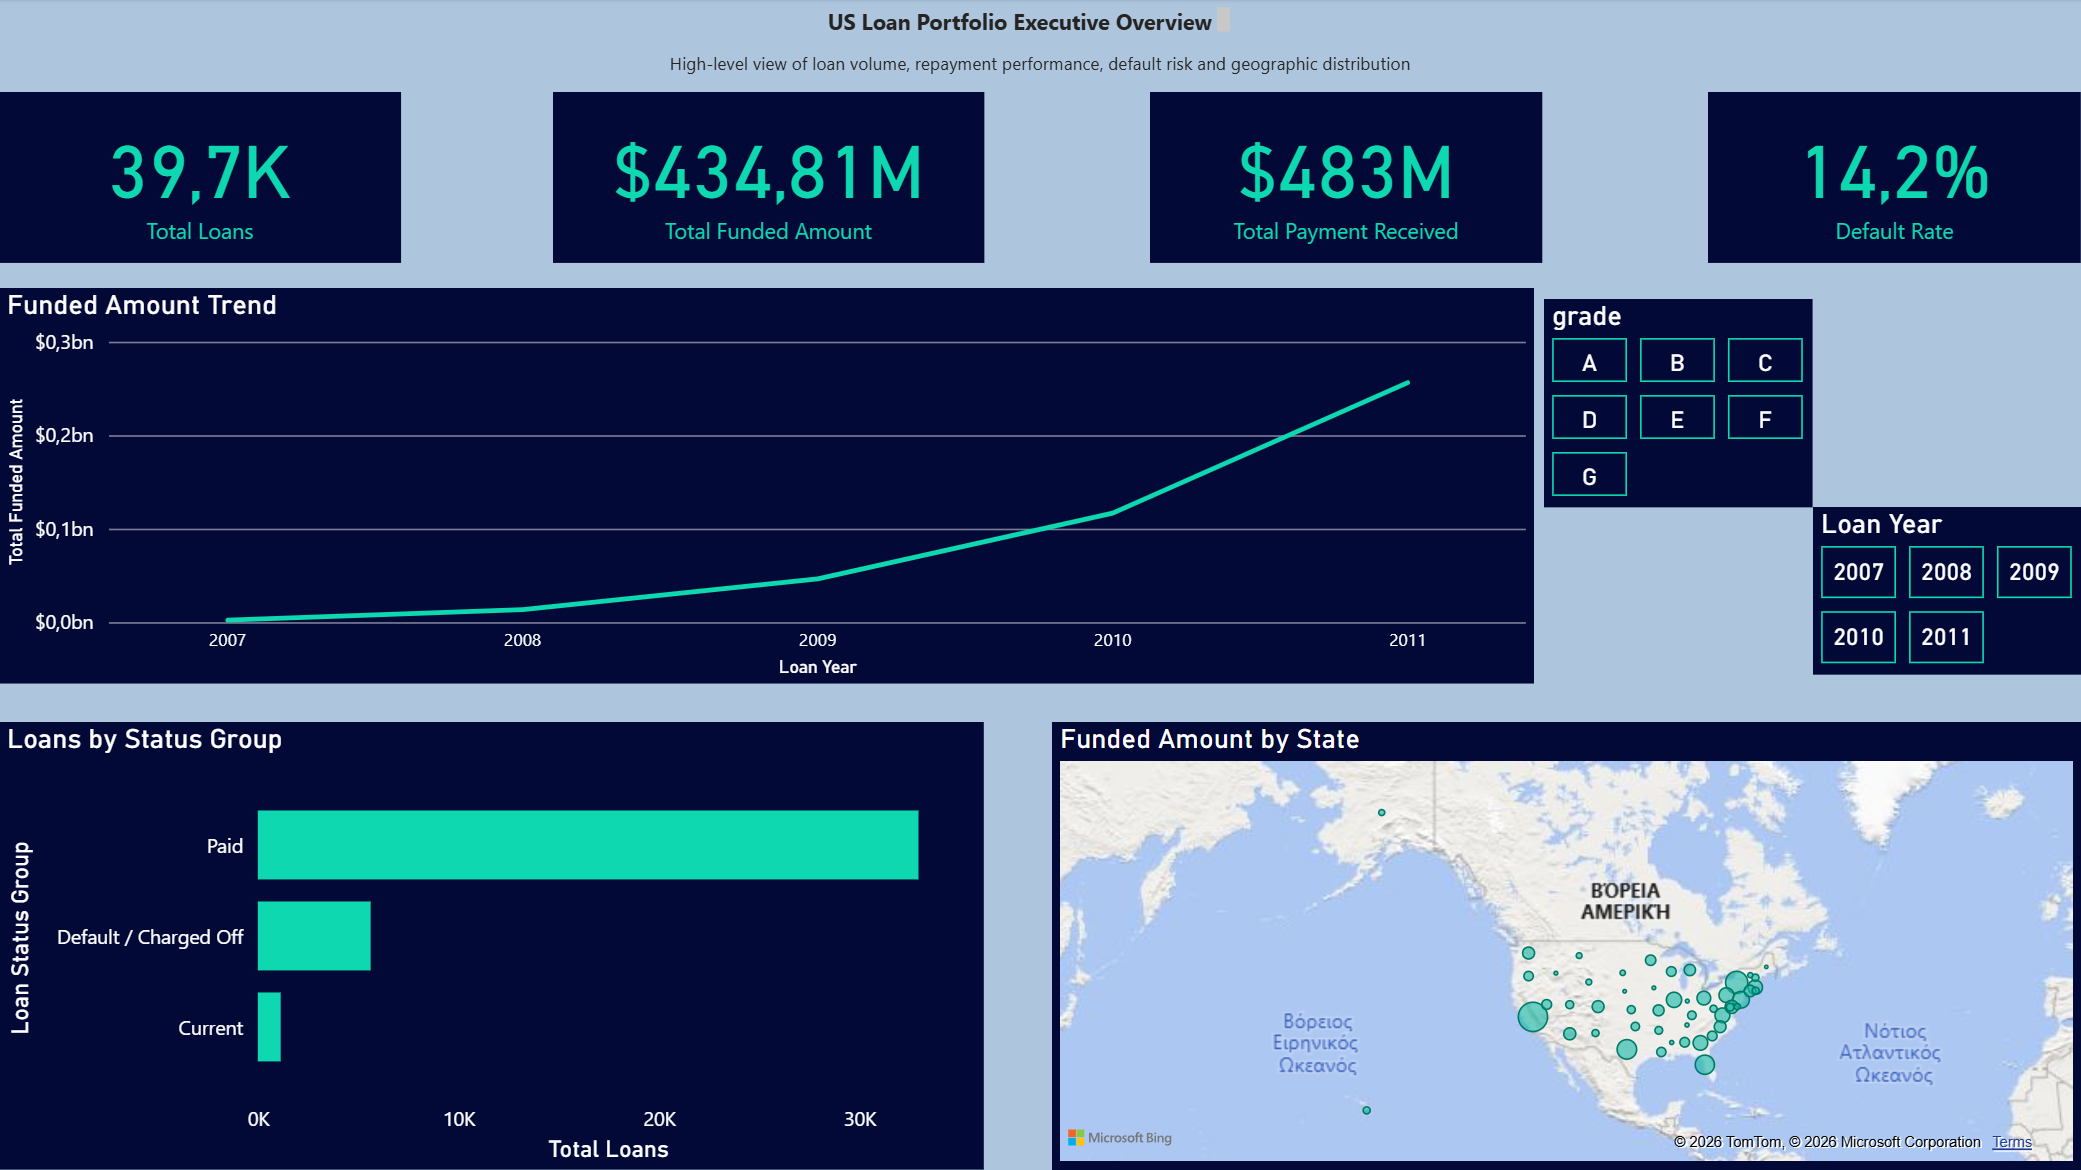

This screenshot's page, from the dashboard's own definition file:
{"tool":"powerbi","page":{"name":"Executive Overview","canvas":[1280,720],"ordinal":0},"visuals":[{"type":"textbox","box":[501.3,0,259.9,24.6],"z":0},{"type":"textbox","box":[398.4,24.7,483.1,27.8],"z":1000},{"type":"card","fields":{"Values":["Loans.Total Loans"]},"box":[0,57.1,247,105.1],"z":2000},{"type":"card","fields":{"Values":["Loans.Total Funded Amount"]},"box":[340.3,57.1,264.8,105.1],"z":3000},{"type":"card","fields":{"Values":["Loans.Total Payment Received"]},"box":[707.1,57.1,240.8,105.1],"z":4000},{"type":"card","fields":{"Values":["Loans.Default Rate"]},"box":[1049.9,57.1,229.1,105.1],"z":5000},{"type":"lineChart","title":"Funded Amount Trend","fields":{"Category":["Loans.Loan Year"],"Y":["Loans.Total Funded Amount"]},"box":[0,177.5,943,243.3],"z":6000},{"type":"map","title":"Funded Amount by State","fields":{"Category":["Loans.State Full Name"],"Size":["Loans.Total Funded Amount"]},"box":[646.9,444.2,632.2,275.2],"z":7000},{"type":"clusteredBarChart","title":"Loans by Status Group","fields":{"Category":["Loans.Loan Status Group"],"Y":["Loans.Total Loans"]},"box":[0,444.2,605.1,275.2],"z":8000},{"type":"advancedSlicerVisual","fields":{"Values":["Loans.Loan Year"]},"box":[1114.4,312.1,164.6,102.6],"z":9000},{"type":"advancedSlicerVisual","fields":{"Values":["Loans.grade"]},"box":[949.1,184.3,165.3,127.8],"z":10000}]}

Visuals, with their boxes in screenshot pixels (x1, y1, x2, y2), scaled from the page's 1280x720 canvas onto the 2081x1170 screenshot:
textbox: <region>815, 0, 1238, 40</region>
textbox: <region>648, 40, 1433, 85</region>
card - Loans.Total Loans: <region>0, 93, 402, 264</region>
card - Loans.Total Funded Amount: <region>553, 93, 984, 264</region>
card - Loans.Total Payment Received: <region>1150, 93, 1541, 264</region>
card - Loans.Default Rate: <region>1707, 93, 2079, 264</region>
"Funded Amount Trend" lineChart: <region>0, 288, 1533, 684</region>
"Funded Amount by State" map: <region>1052, 722, 2080, 1169</region>
"Loans by Status Group" clusteredBarChart: <region>0, 722, 984, 1169</region>
advancedSlicerVisual - Loans.Loan Year: <region>1812, 507, 2079, 674</region>
advancedSlicerVisual - Loans.grade: <region>1543, 299, 1812, 507</region>
